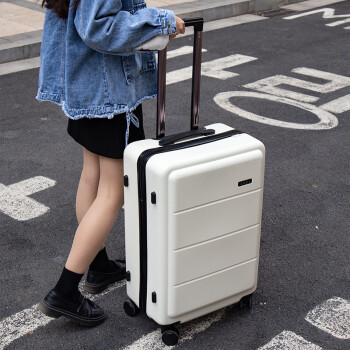box: (122, 123, 264, 326)
handle: (159, 127, 218, 144)
wheel: (160, 323, 180, 346), (123, 299, 139, 318), (238, 294, 253, 310)
